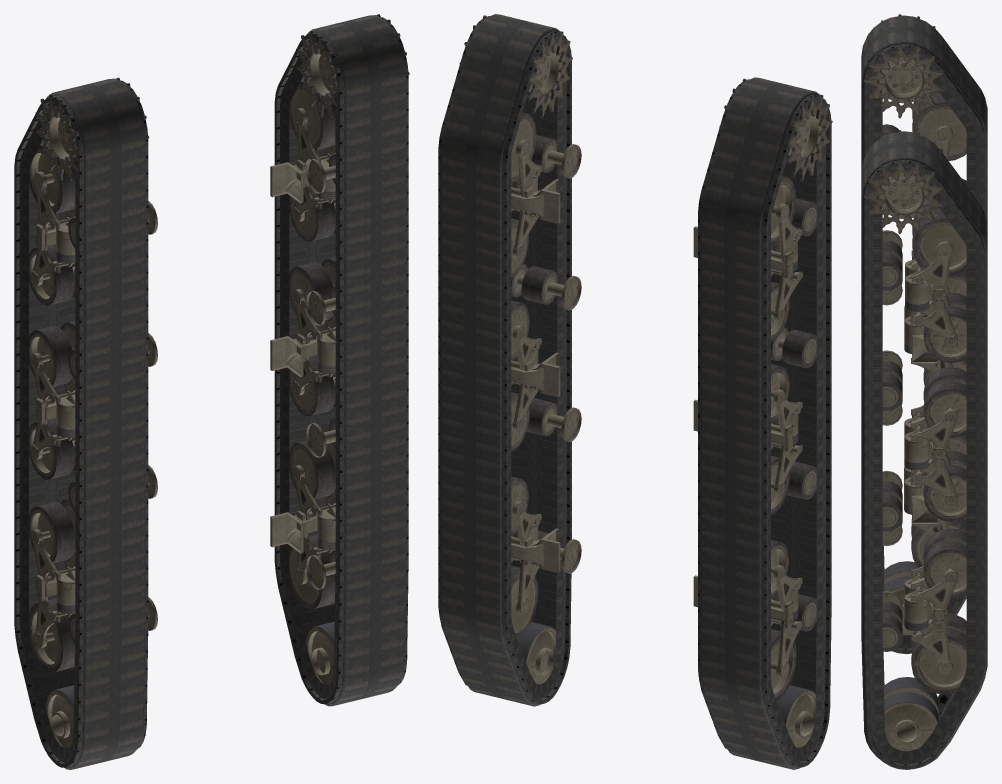
The model's file is Chassis.glb.
3 renders of one model, left to right at view 1: azimuth 30°, elevation 25°; view 2: azimuth 150°, elevation 25°; view 3: azimuth 270°, elevation 25°, orthographic. The views are drawn at different scales.
Visible parts, largest first — view 1: set_4_group_0, set_5_group_0, set_1_group_0, set_3_group_0, set_2_group_0, set_0_group_0; view 2: set_4_group_0, set_5_group_0, set_1_group_0, set_3_group_0, set_2_group_0, set_0_group_0; view 3: set_1_group_0, set_5_group_0, set_3_group_0, set_4_group_0, set_0_group_0, set_2_group_0.
Part boxes in pixels (x1,y1,x2,y2): set_4_group_0: [14, 78, 148, 769]; set_5_group_0: [274, 15, 408, 706]; set_1_group_0: [270, 14, 409, 684]; set_3_group_0: [29, 77, 157, 747]; set_2_group_0: [31, 171, 75, 459]; set_0_group_0: [293, 108, 335, 395]; set_4_group_0: [698, 77, 831, 769]; set_5_group_0: [438, 14, 571, 706]; set_1_group_0: [459, 15, 581, 684]; set_3_group_0: [693, 78, 832, 747]; set_2_group_0: [771, 203, 798, 495]; set_0_group_0: [511, 140, 537, 431]; set_1_group_0: [863, 130, 966, 751]; set_5_group_0: [861, 131, 987, 769]; set_3_group_0: [863, 14, 966, 635]; set_4_group_0: [861, 15, 987, 653]; set_0_group_0: [919, 241, 958, 505]; set_2_group_0: [918, 125, 953, 372].
Bounding box in the file's own units: 3.22 × 6.14 × 1.15.
Materials: 6 (6 with a texture image).
